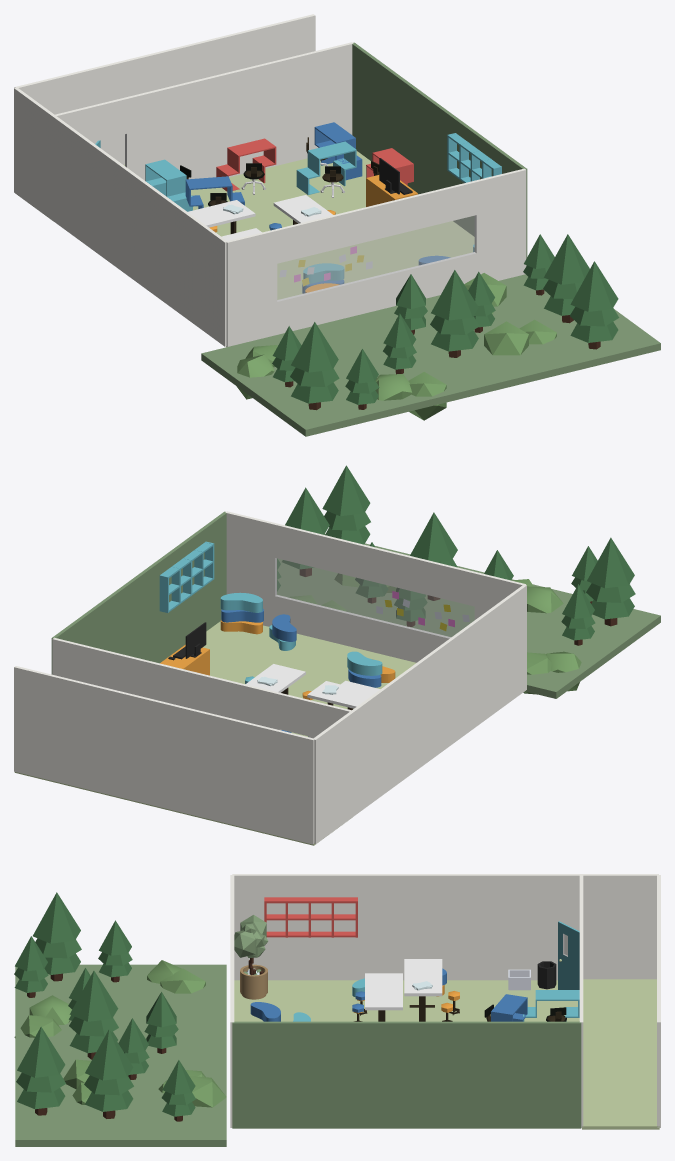
The model's file is AFTERclassroom.dae.
3 views of the same model, one above another, from view 1: azimuth 30°, elevation 25°; view 2: azimuth 150°, elevation 25°; view 3: azimuth 270°, elevation 25° (orthographic).
Parts seen in each view (by area): view 1: southWall, westWall, grass, northWall, hallwayWall, floor, eastWall, window, tree.5, tree.3, tree.4, tree.6 (+20 smaller); view 2: hallwayWall, westWall, southWall, northWall, eastWall, grass, window, floor, tree.4, tree.5, Cube.8, tree.3 (+9 smaller); view 3: westWall, eastWall, grass, hallway, floor, Cube (×2), tree.6, tree.5, tree.4, tree.3, Cube.1, tree.9 (+20 smaller).
Boxes of the visible parts, left/top/right/bottom form: southWall: left=226, top=168, right=526, bottom=346; westWall: left=14, top=87, right=226, bottom=346; grass: left=201, top=274, right=660, bottom=436; northWall: left=53, top=42, right=353, bottom=180; hallwayWall: left=14, top=14, right=315, bottom=164; floor: left=191, top=151, right=474, bottom=347; eastWall: left=352, top=42, right=527, bottom=265; window: left=277, top=215, right=476, bottom=301; tree.5: left=570, top=261, right=619, bottom=349; tree.3: left=430, top=270, right=479, bottom=357; tree.4: left=290, top=322, right=339, bottom=410; tree.6: left=543, top=234, right=589, bottom=323; hallwayWall: left=14, top=666, right=314, bottom=844; westWall: left=314, top=584, right=526, bottom=844; southWall: left=225, top=511, right=526, bottom=662; northWall: left=52, top=637, right=352, bottom=738; eastWall: left=51, top=511, right=226, bottom=674; grass: left=277, top=533, right=660, bottom=698; window: left=275, top=558, right=474, bottom=638; floor: left=203, top=621, right=415, bottom=736; tree.4: left=586, top=537, right=635, bottom=626; tree.5: left=322, top=465, right=370, bottom=544; Cube.8: left=159, top=541, right=214, bottom=612; tree.3: left=410, top=512, right=457, bottom=600; westWall: left=232, top=874, right=658, bottom=980; eastWall: left=232, top=1021, right=581, bottom=1128; grass: left=15, top=964, right=226, bottom=1146; hallway: left=582, top=979, right=659, bottom=1129; floor: left=234, top=980, right=579, bottom=1021; Cube (×2): left=264, top=897, right=442, bottom=996; tree.6: left=84, top=1029, right=133, bottom=1118; tree.5: left=16, top=1026, right=65, bottom=1115; tree.4: left=33, top=892, right=81, bottom=981; tree.3: left=69, top=971, right=118, bottom=1059; Cube.1: left=365, top=973, right=402, bottom=1010; tree.9: left=161, top=1060, right=195, bottom=1121.
Size of the model in its own units: 10694 by 3714 by 16681.
